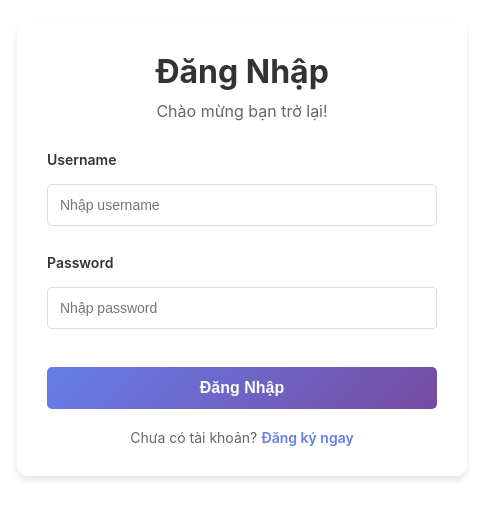
Login E2E Tests › b) Nên hiển thị validation error khi submit form rỗng
Click the button with test id "login-button" at (242, 388), box 47,367 -> 437,409
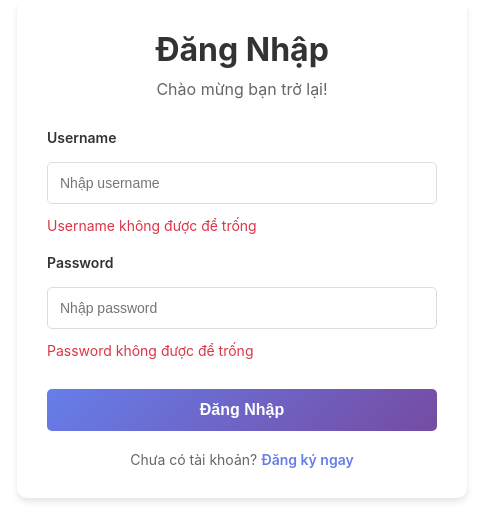
Check: the text "Username không được để trống" is shown, box 47,217 -> 257,234
Check: the text "Password không được để trống" is shown, box 47,342 -> 254,359
